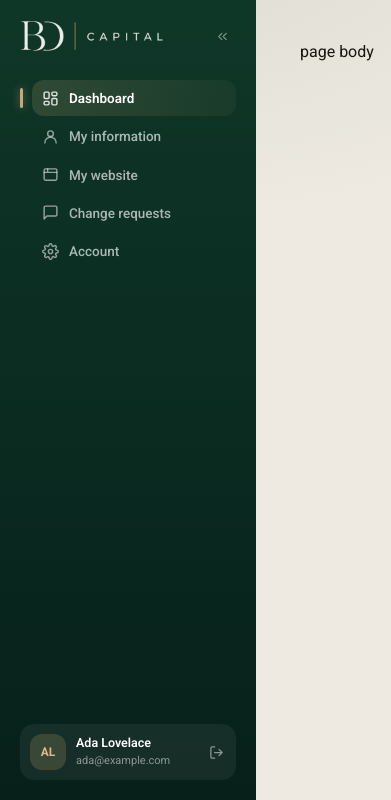
Test: Layout: sidebar › collapses to icons, swaps to the compact logo, and remembers the choice
Click the button named "Collapse sidebar": (222, 36) [208,22,236,50]
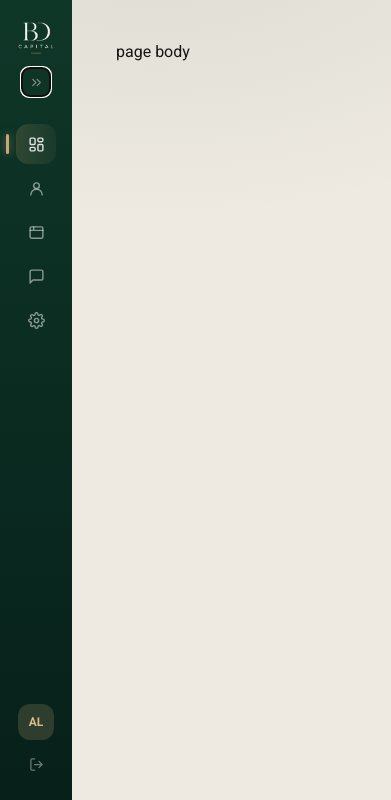
Expected: the link titled "Dashboard" is shown, [16,124,56,164]
Result: the text "Dashboard" is gone
Result: the button named "Expand sidebar" is shown at [22,68,50,96]
